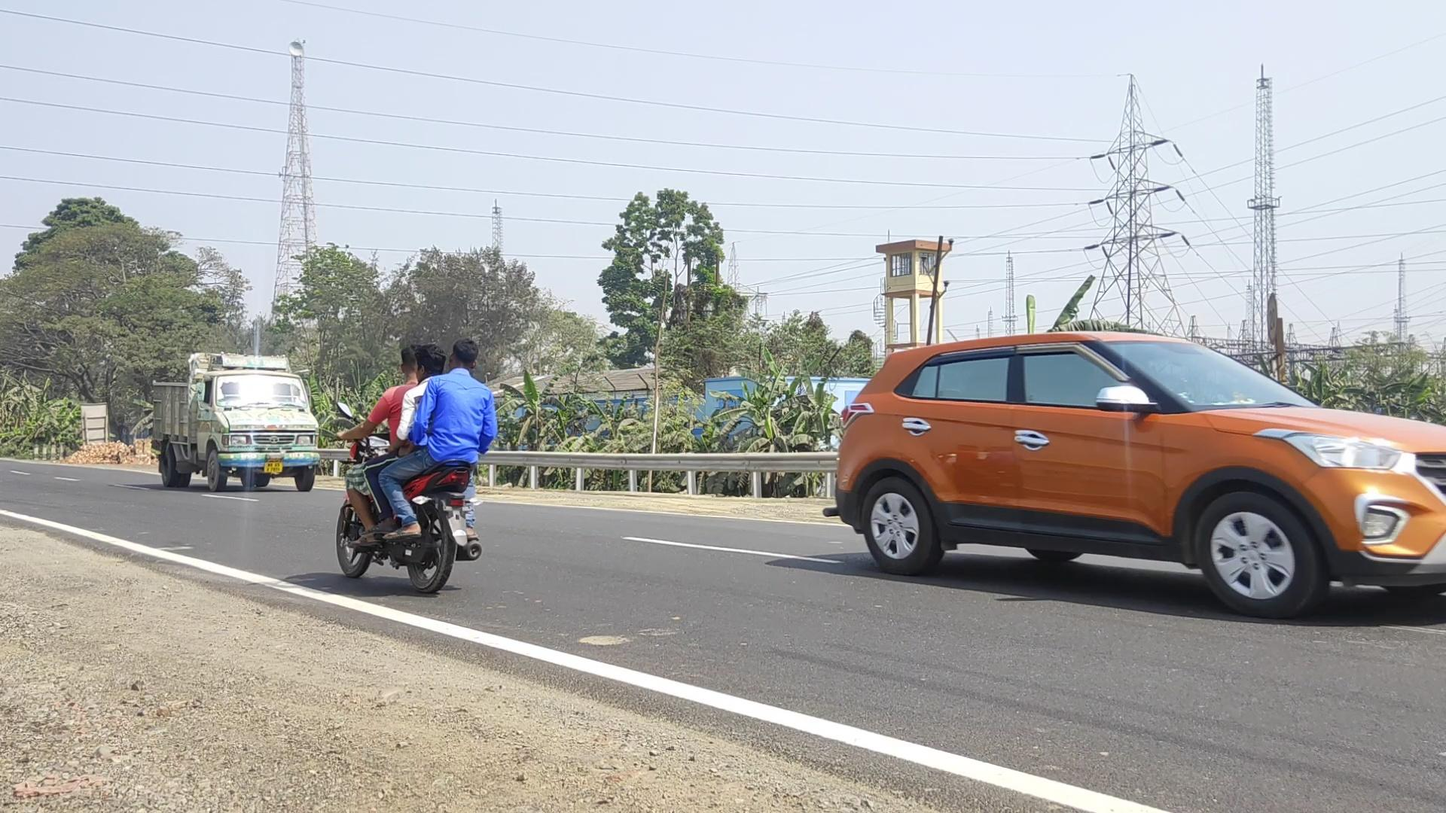bike: (335, 336, 496, 593)
car: (822, 333, 1446, 622)
truck: (151, 352, 320, 491)
